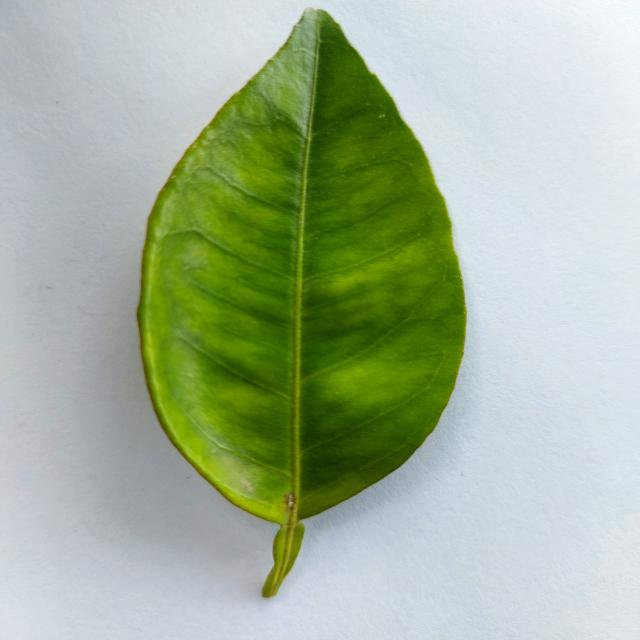greening: (138, 9, 466, 596)
